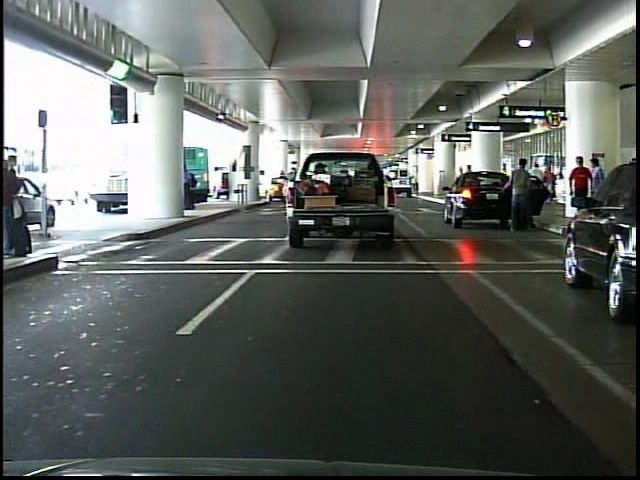person: (497, 150, 538, 237), (567, 155, 595, 229)
